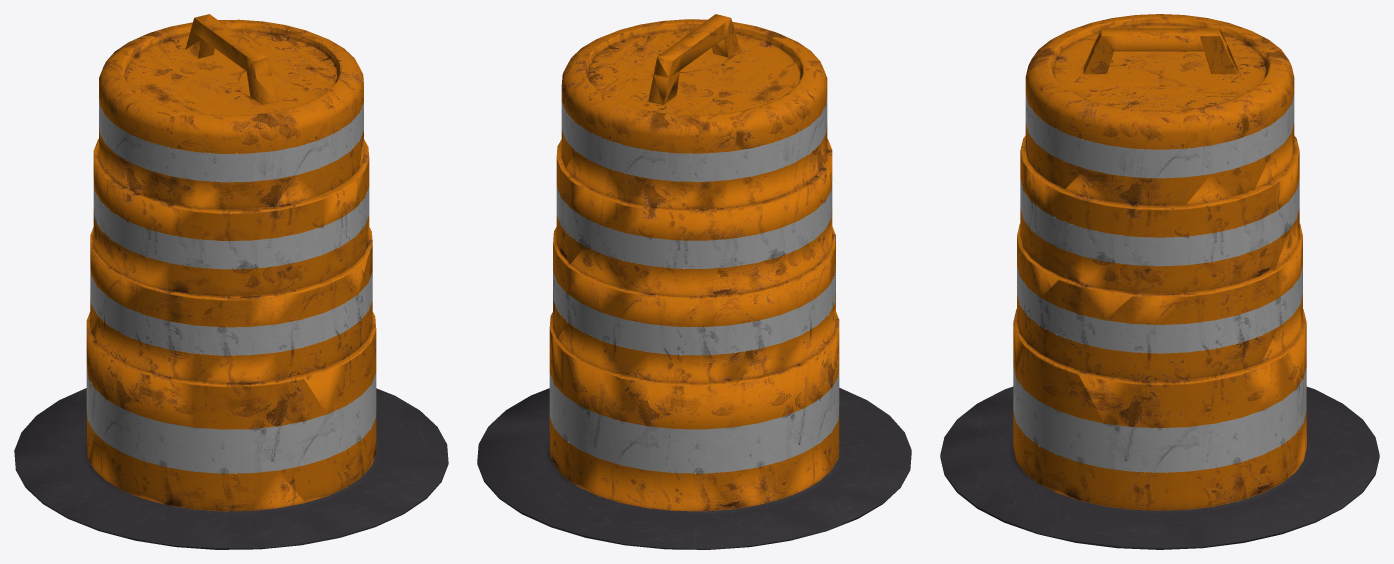
Rendered from barrel.glb.
3 views of the same model, side by side, from view 1: azimuth 30°, elevation 25°; view 2: azimuth 150°, elevation 25°; view 3: azimuth 270°, elevation 25° (orthographic).
Parts seen in each view (by area): view 1: Drum; view 2: Drum; view 3: Drum.
Part boxes in pixels (box(x1,y1,x2,y2)): Drum: box(14, 14, 448, 549); Drum: box(477, 14, 911, 549); Drum: box(940, 14, 1379, 549).
Bounding box in the file's own units: 0.9951 × 1.06 × 0.9951.
3 materials, 3 textured.
